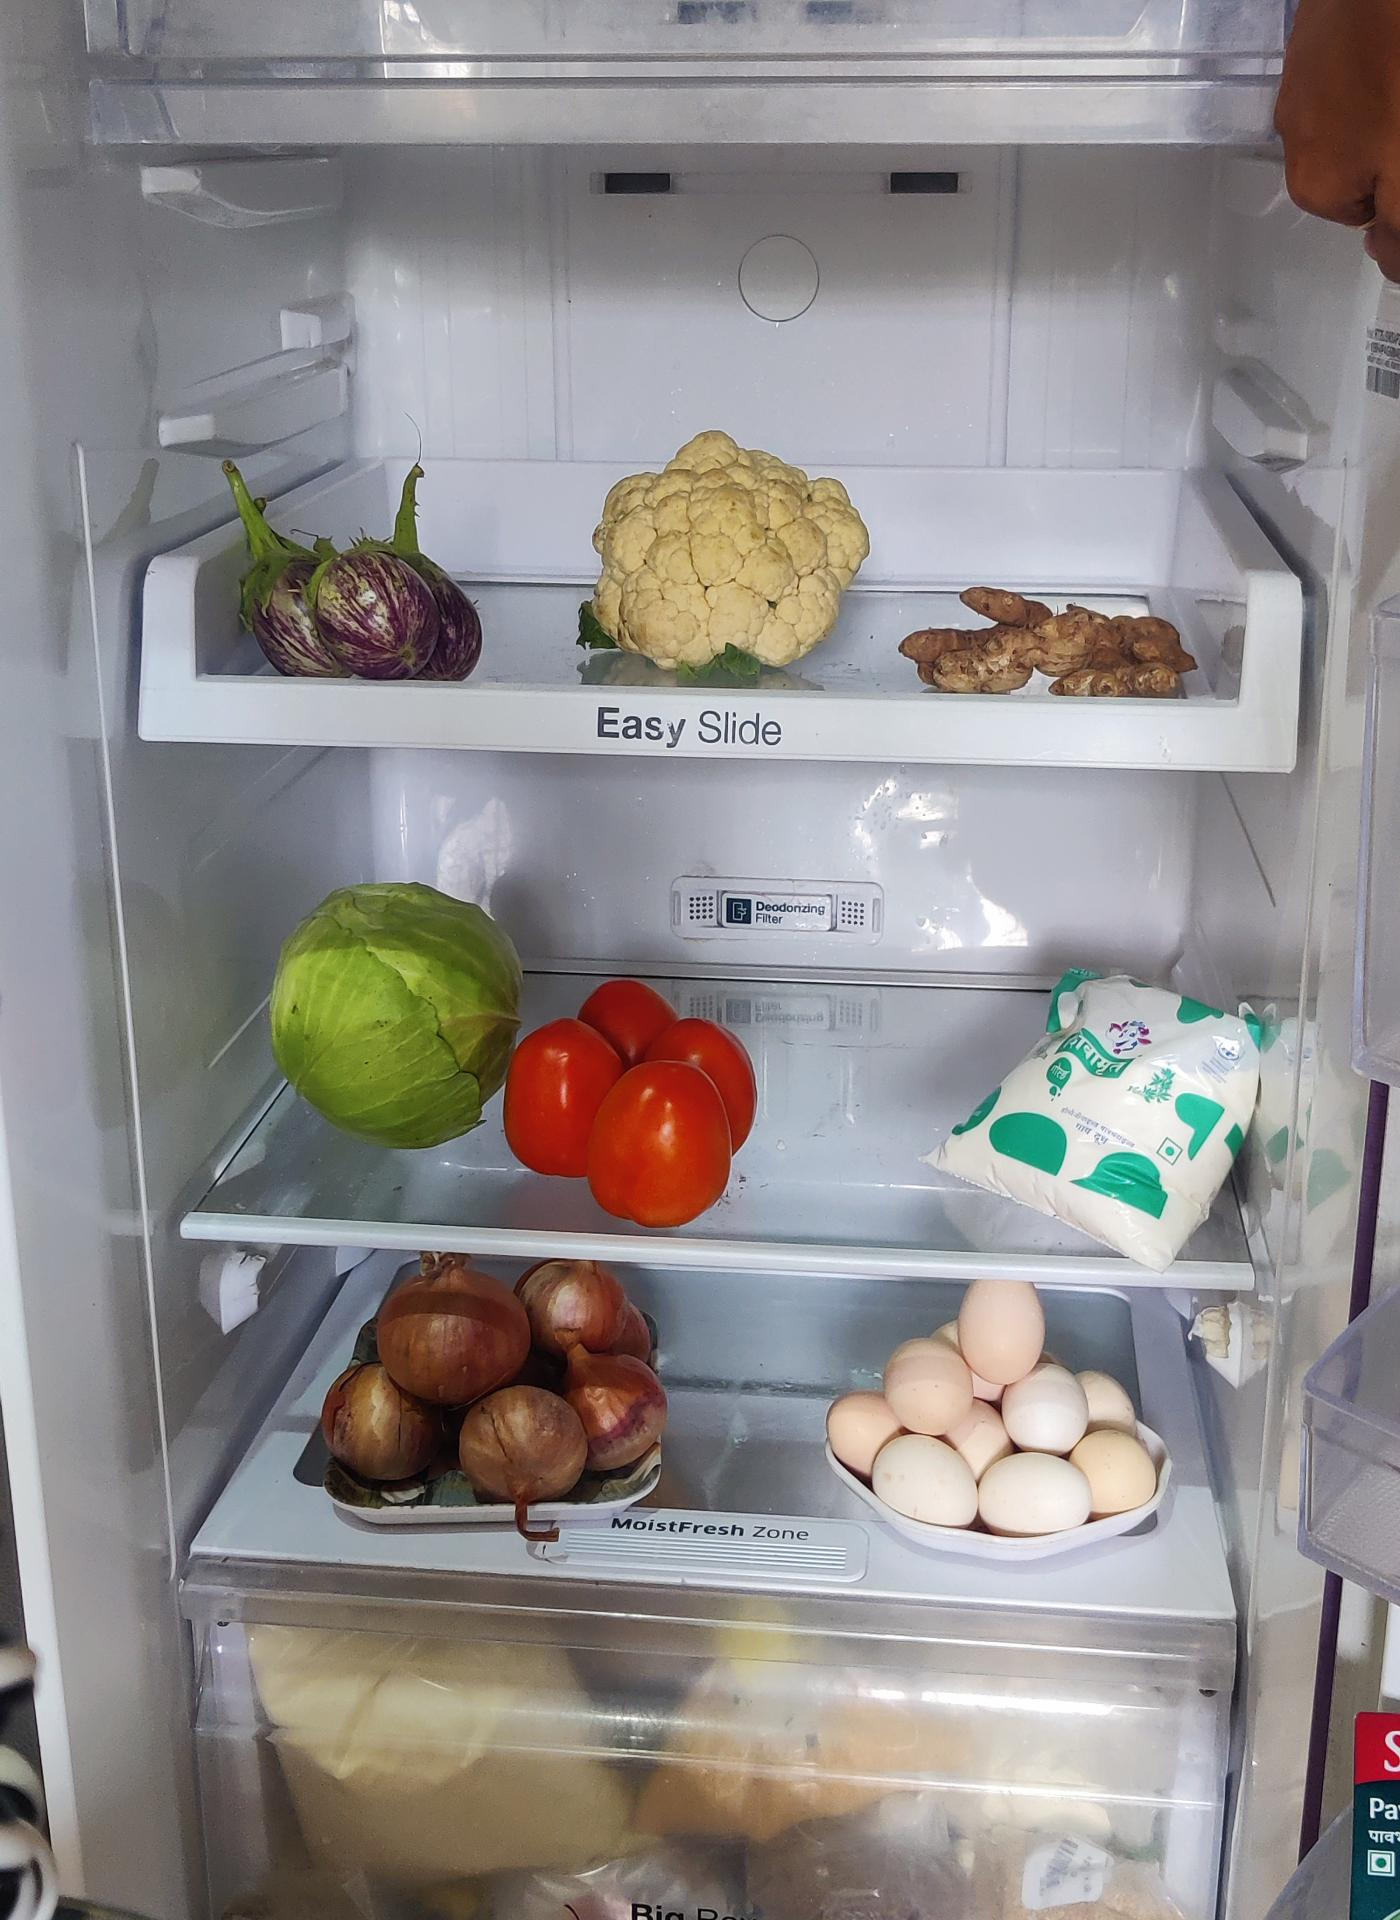brinjal: (230, 500, 485, 682)
cabbage: (275, 881, 529, 1146)
cauliflower: (592, 437, 877, 678)
egg: (820, 1268, 1160, 1523)
ginger: (901, 584, 1207, 700)
milk: (925, 958, 1258, 1254)
onion: (313, 1266, 662, 1510)
tomato: (505, 970, 758, 1218)
